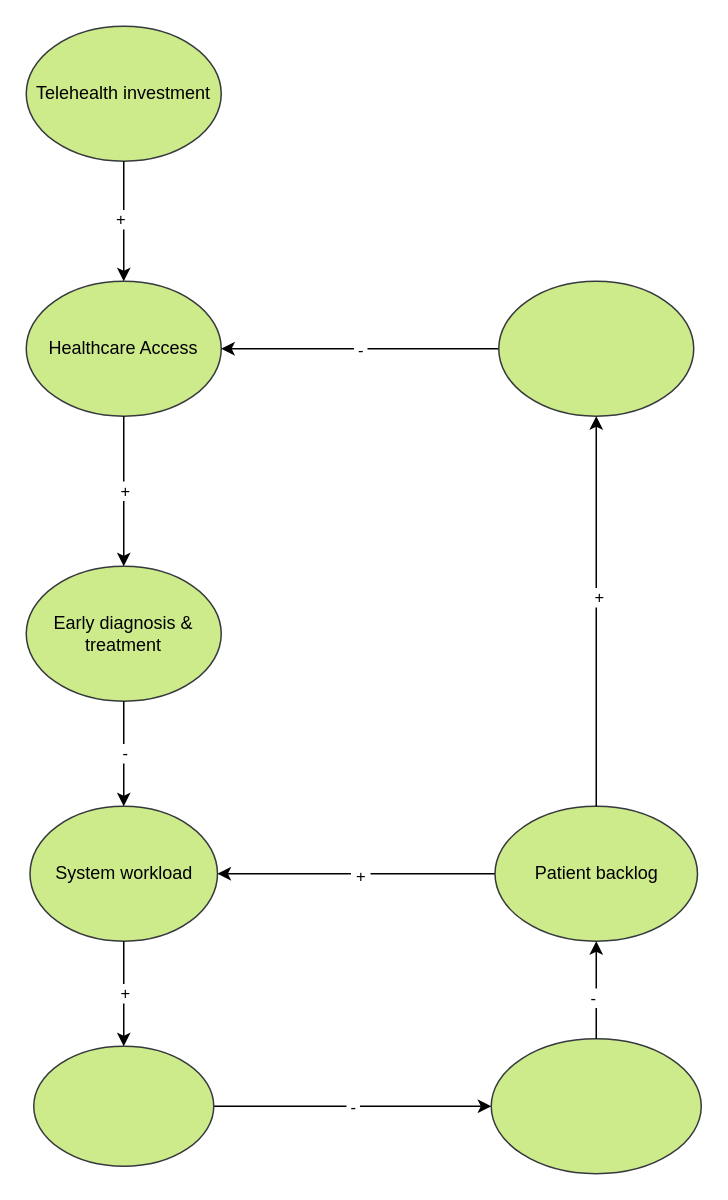
Some shapes in this 728 by 1200 pixel diagram are drawn without their labels. Each missing label, with the centre of its shape:
"Physician burnout" belongs at [123,1105].
"Rural clinic availability" belongs at [595,348].
"Workforce availability" belongs at [595,1105].
